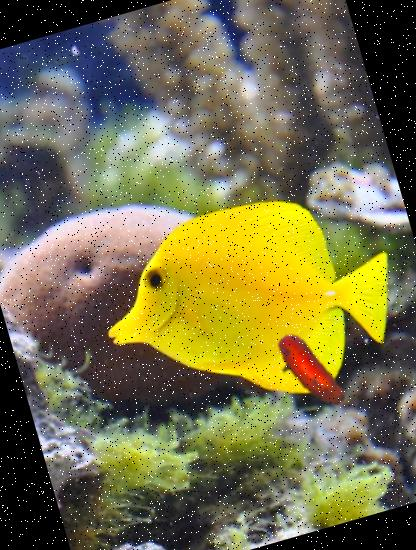Banana: (252, 318, 362, 429)
